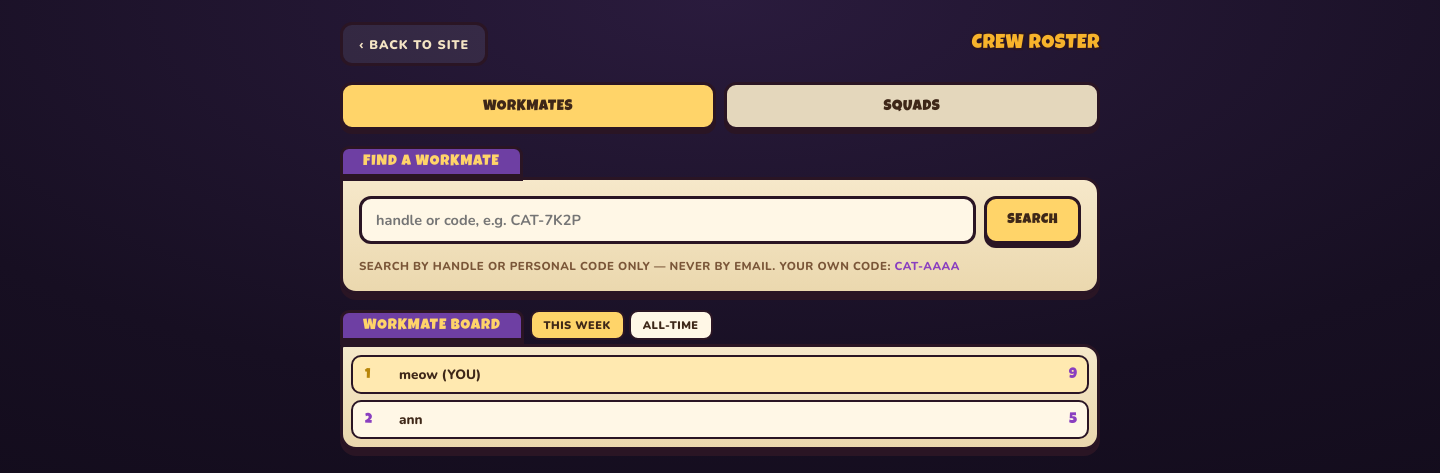
Test: Crew roster › shows a workmate's badges on their personnel file
The image size is (1440, 473).
Click the button "ann": click(411, 420) [399,410,1059,429]
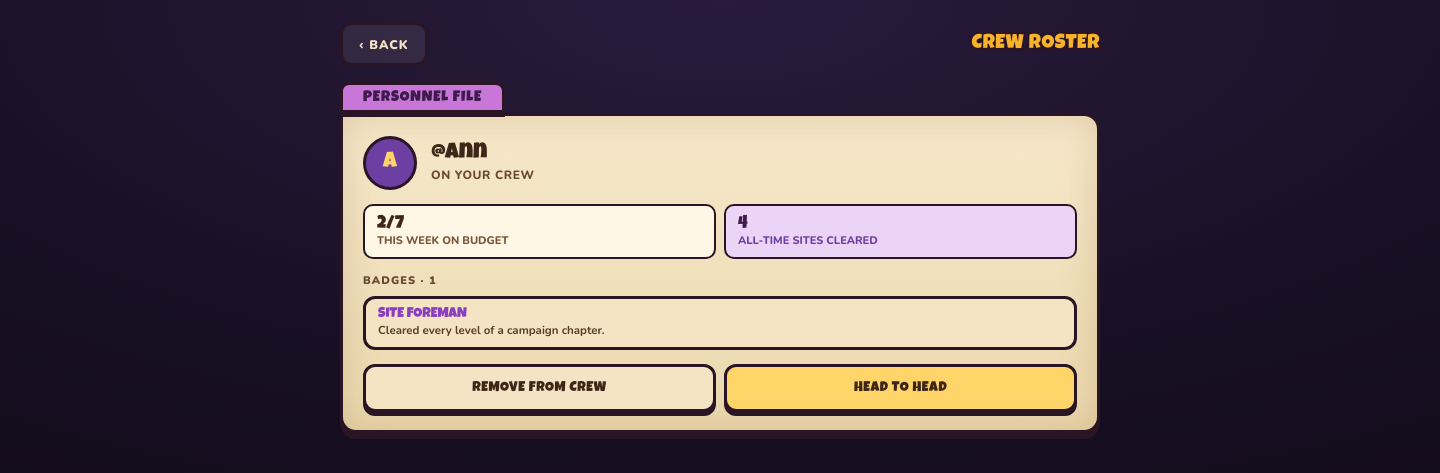
Expected: the text "SITE FOREMAN" is shown, [378,307,467,321]
